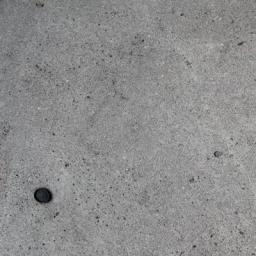FOD: (31, 184, 55, 210)
